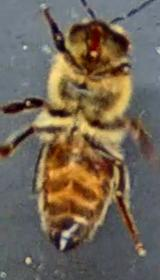varroa_mite: (88, 143, 111, 178)
